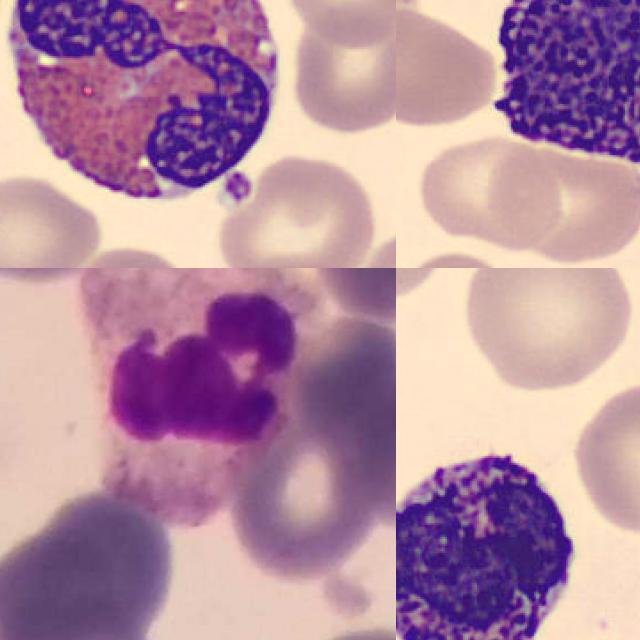Basophil: (396, 429, 587, 640), (474, 0, 640, 176)
Eosinophil: (0, 0, 301, 223)
Neutrophil: (83, 268, 312, 523)
Platelets: (216, 167, 259, 211)
RBC: (456, 268, 639, 394), (210, 149, 382, 268), (414, 130, 567, 252), (284, 5, 396, 137), (396, 3, 500, 130), (567, 375, 640, 539), (0, 170, 105, 268), (274, 0, 396, 47), (396, 245, 529, 268), (396, 268, 457, 304)
